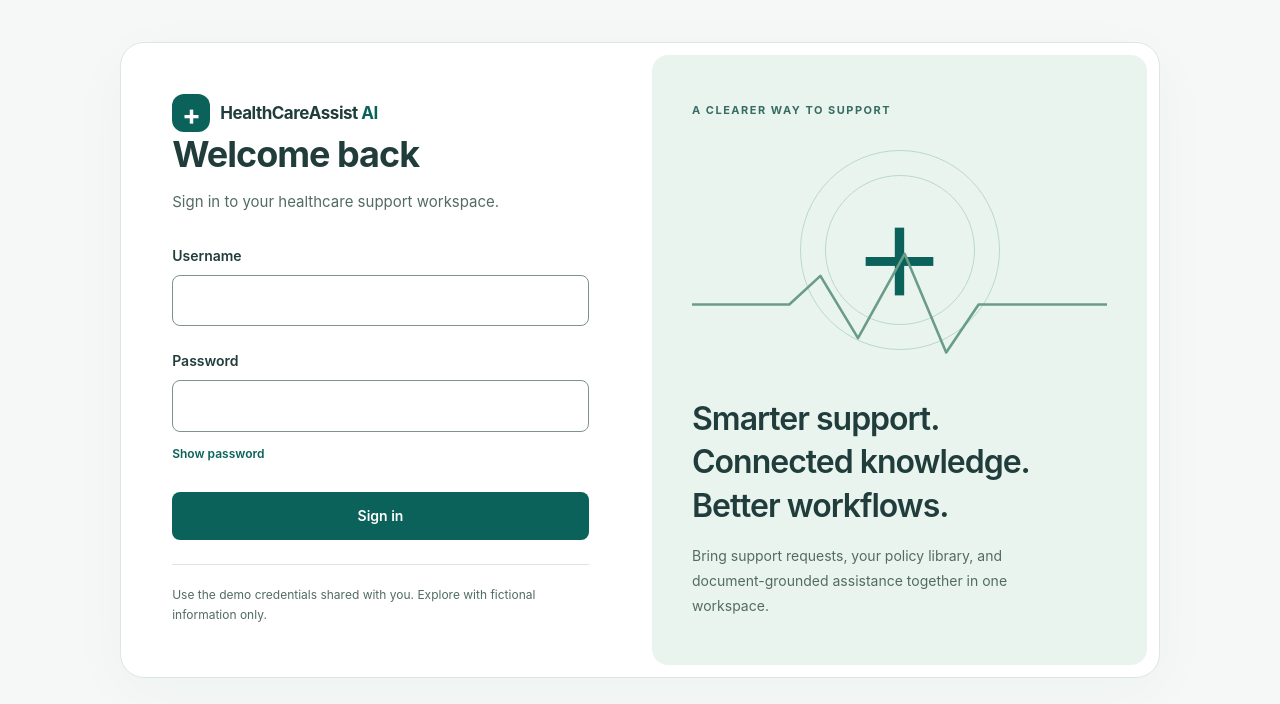
Test: workspace entry routing › preserves a safe deep link including its query string and hash through login
Type "fictional-reviewer" into the field labelled "Username" at (380, 301), box [172, 275, 589, 326]
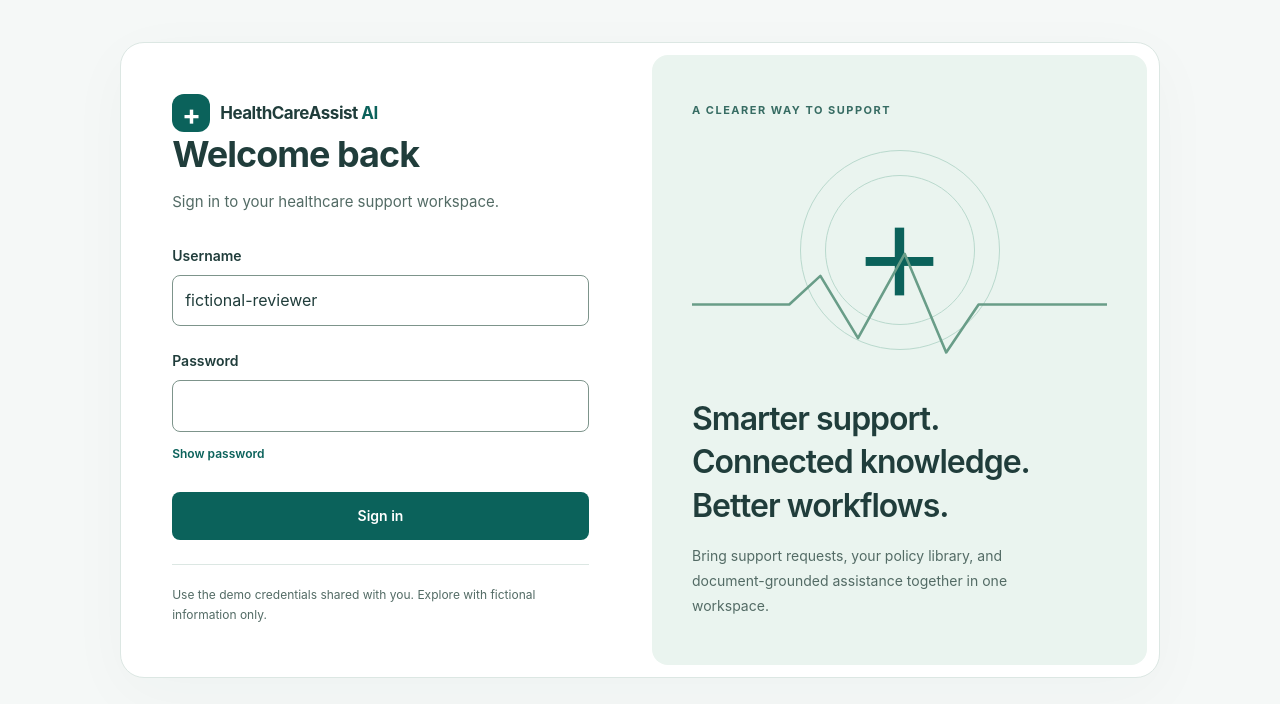
Type "synthetic-input-only" into the password field labelled "Password" at (380, 406), box [172, 380, 589, 432]
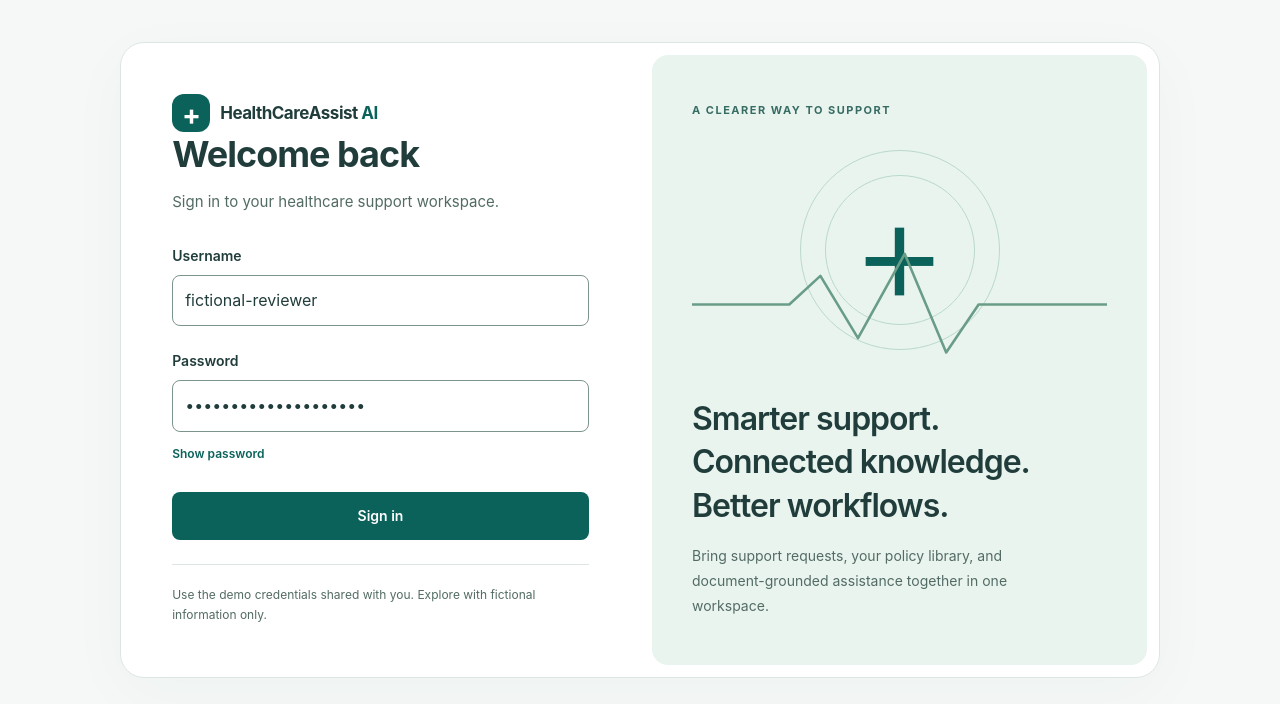
Submit the form named "Demo sign in", box [172, 245, 589, 540]
(page scrolled)
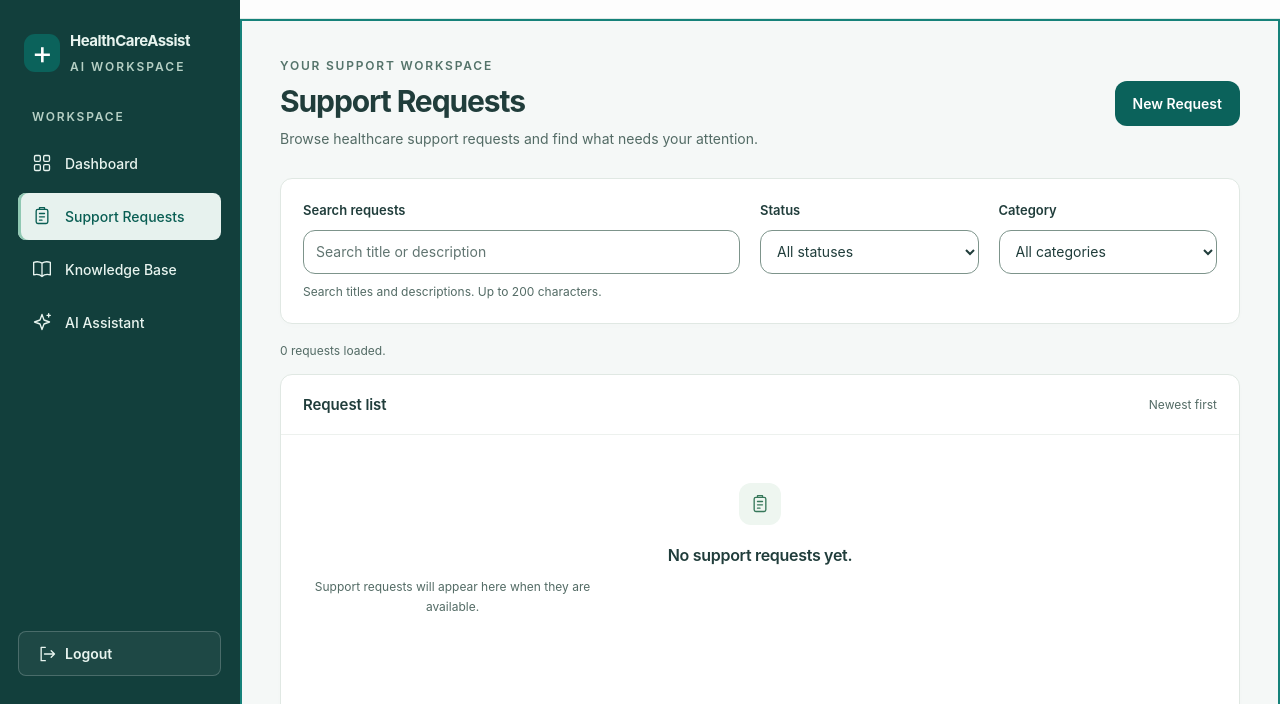
Check: the heading "Support Requests" is shown, box [280, 83, 525, 119]
